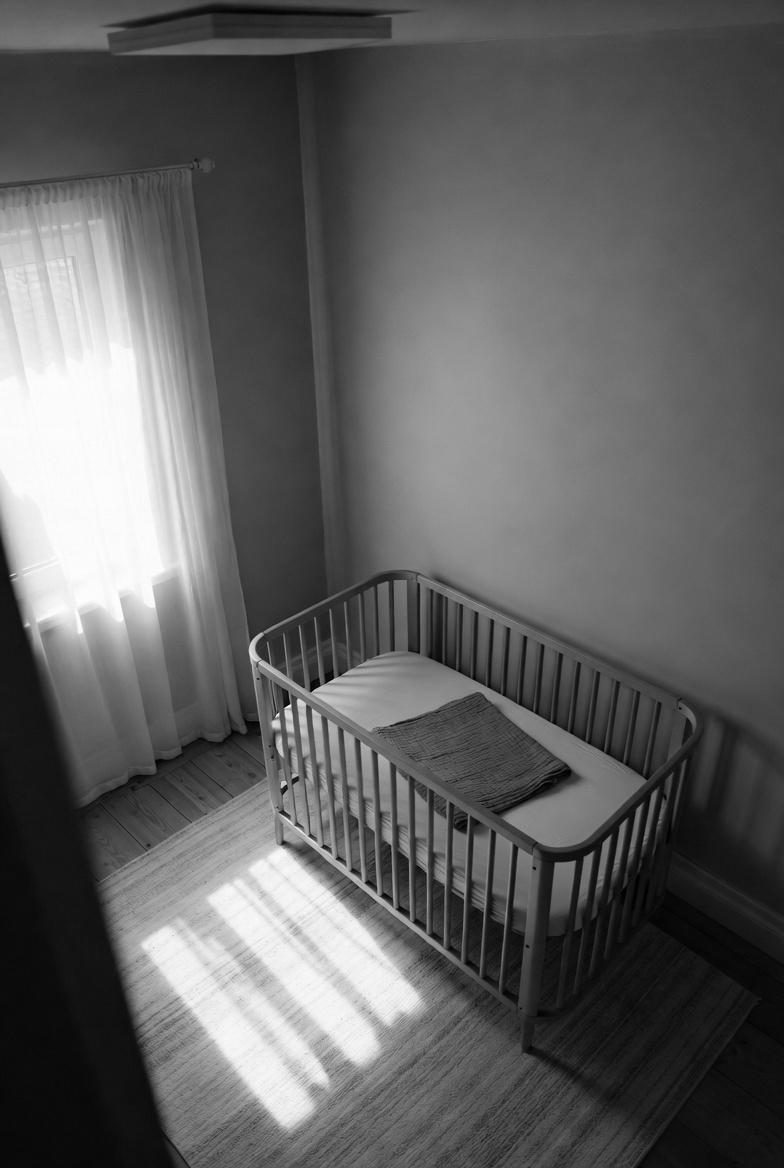crib: (250, 571, 702, 1050)
